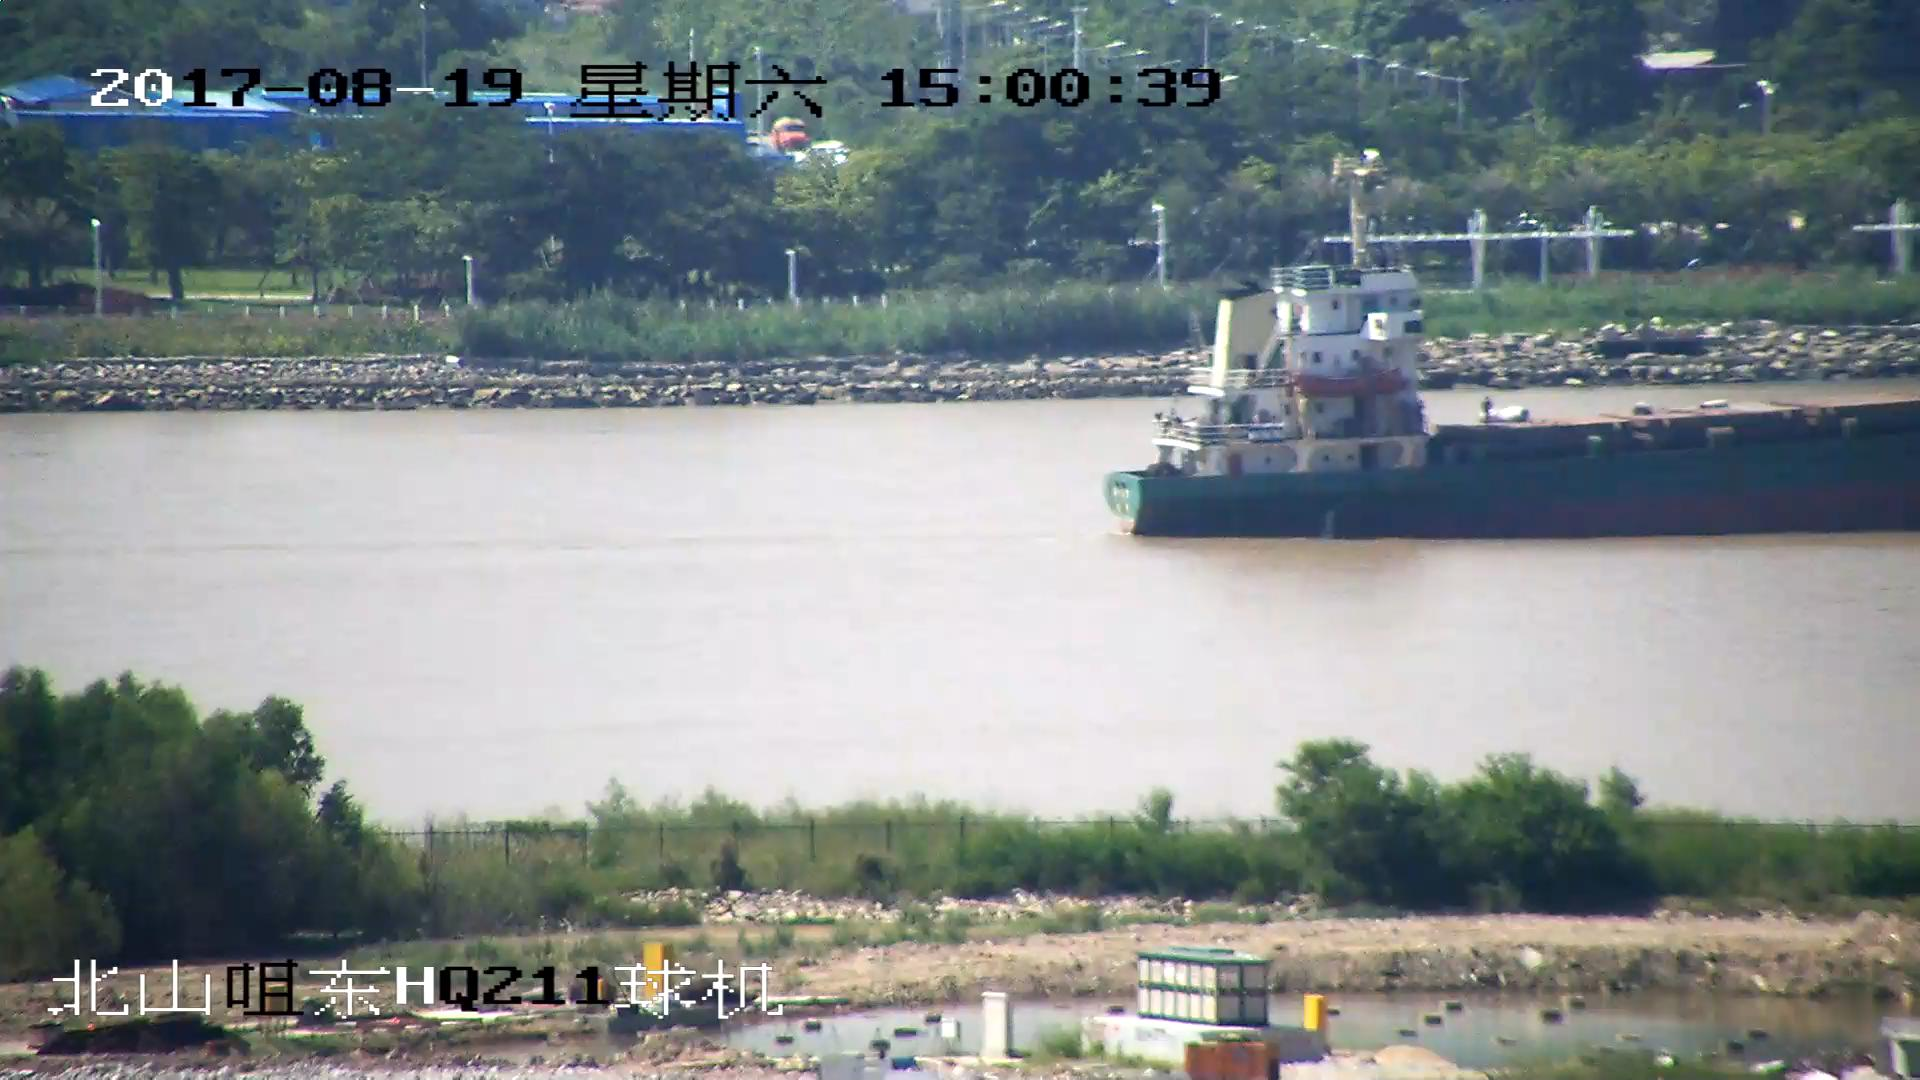general cargo ship: (1100, 260, 1920, 540)
